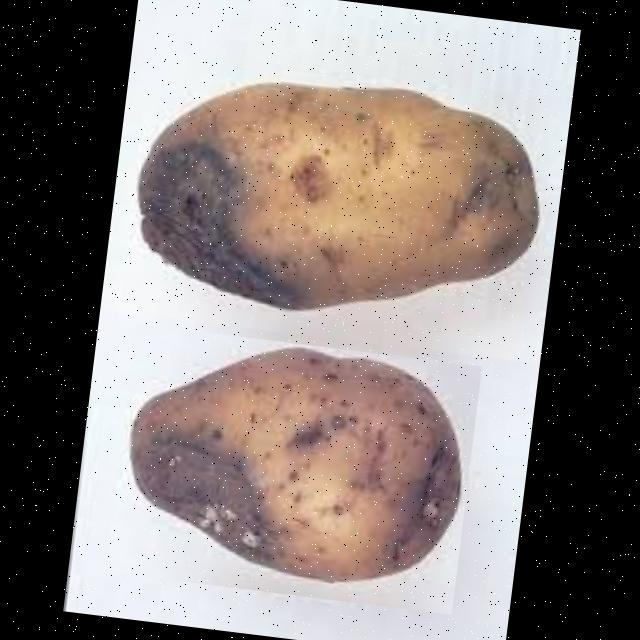Damaged potato: (118, 55, 558, 340), (104, 323, 480, 614)
